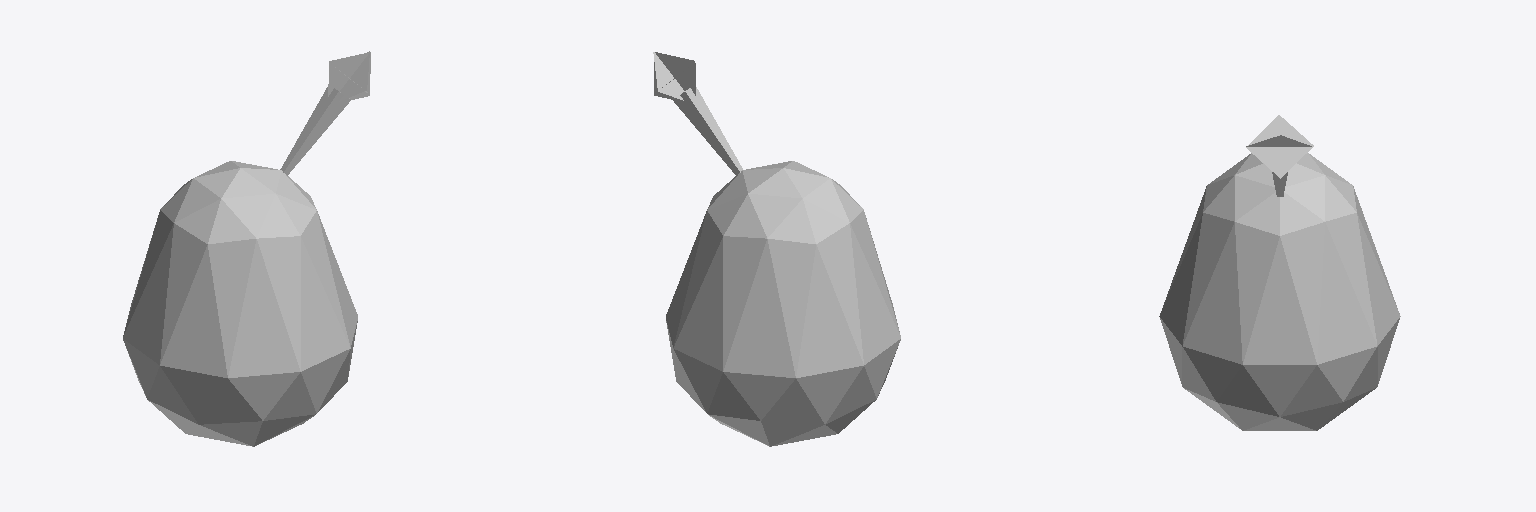
Rendered from Potato.obj.
3 views of the same model, side by side, from view 1: azimuth 30°, elevation 25°; view 2: azimuth 150°, elevation 25°; view 3: azimuth 270°, elevation 25° (orthographic).
Parts seen in each view (by area): view 1: Plane; view 2: Plane; view 3: Plane.
Boxes of the visible parts, <box> form: Plane: <box>123,51,370,446</box>; Plane: <box>653,52,900,446</box>; Plane: <box>1159,115,1400,430</box>.
Size of the model in its own units: 2.2 by 3.24 by 2.